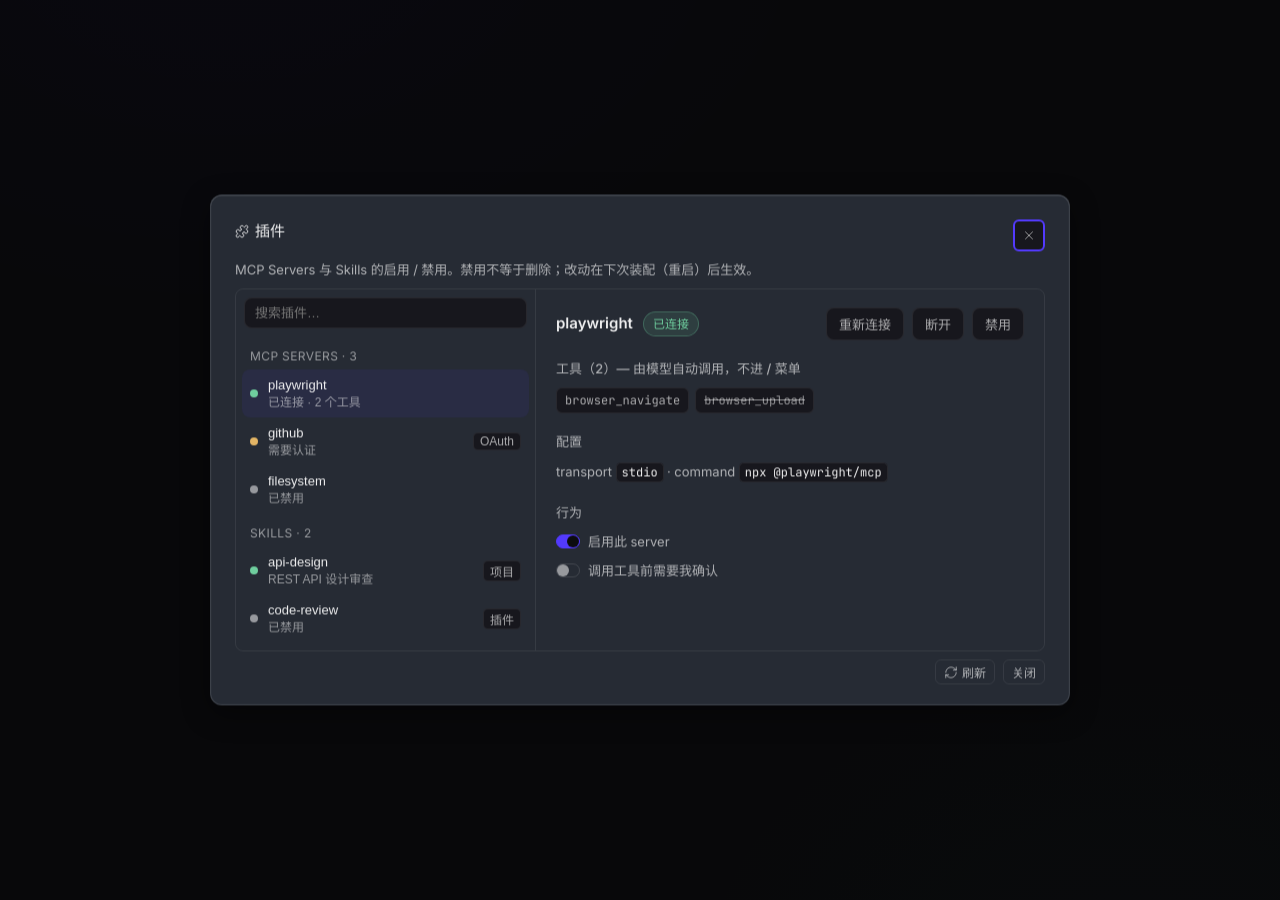
Test: #1200 Phase 2 管理动作 › 禁用 server → 调端点并提示重启后生效
Click the button "禁用" at (998, 324), box [972,307,1024,340]
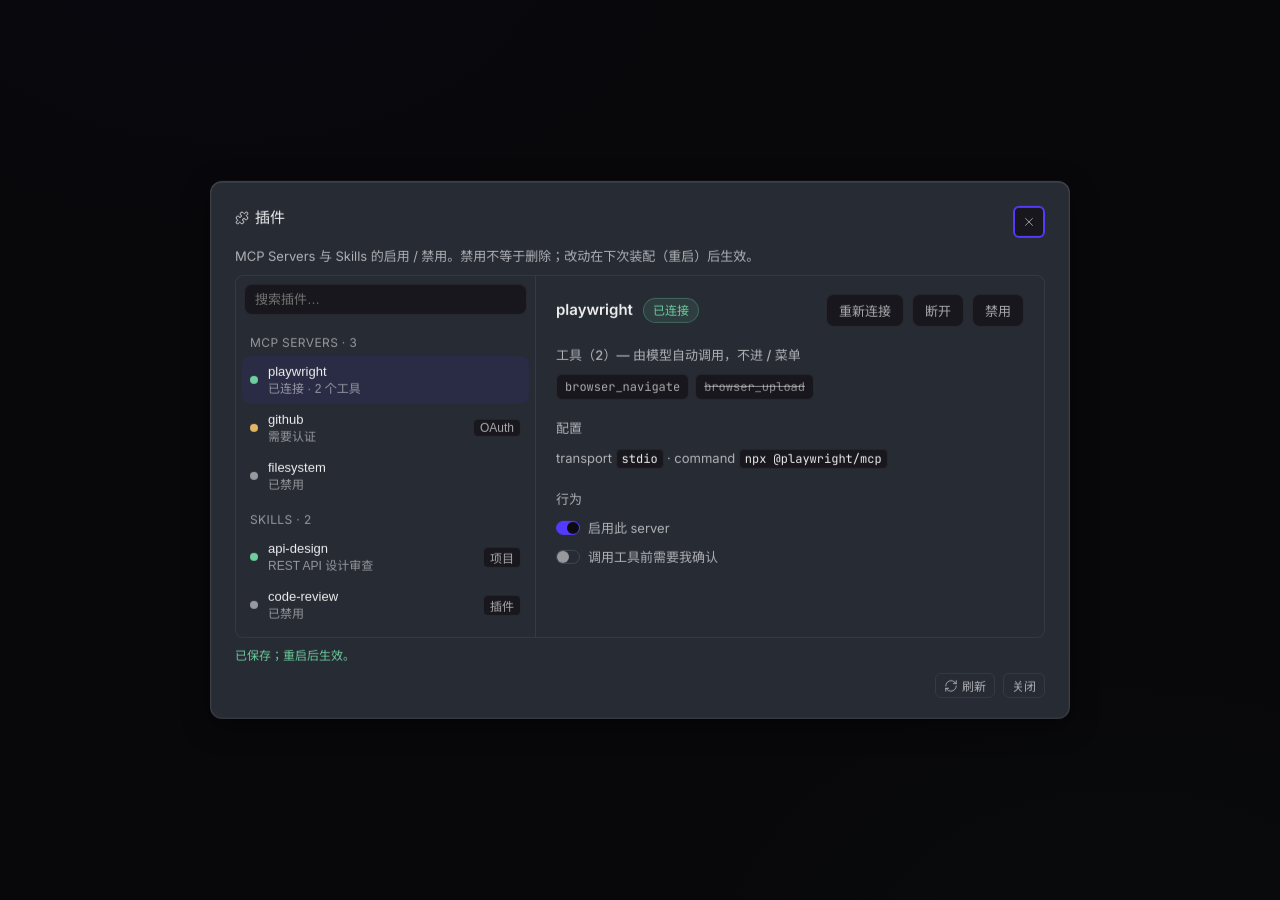
Result: the message "已保存；重启后生效。" is shown at [235,648,355,663]
